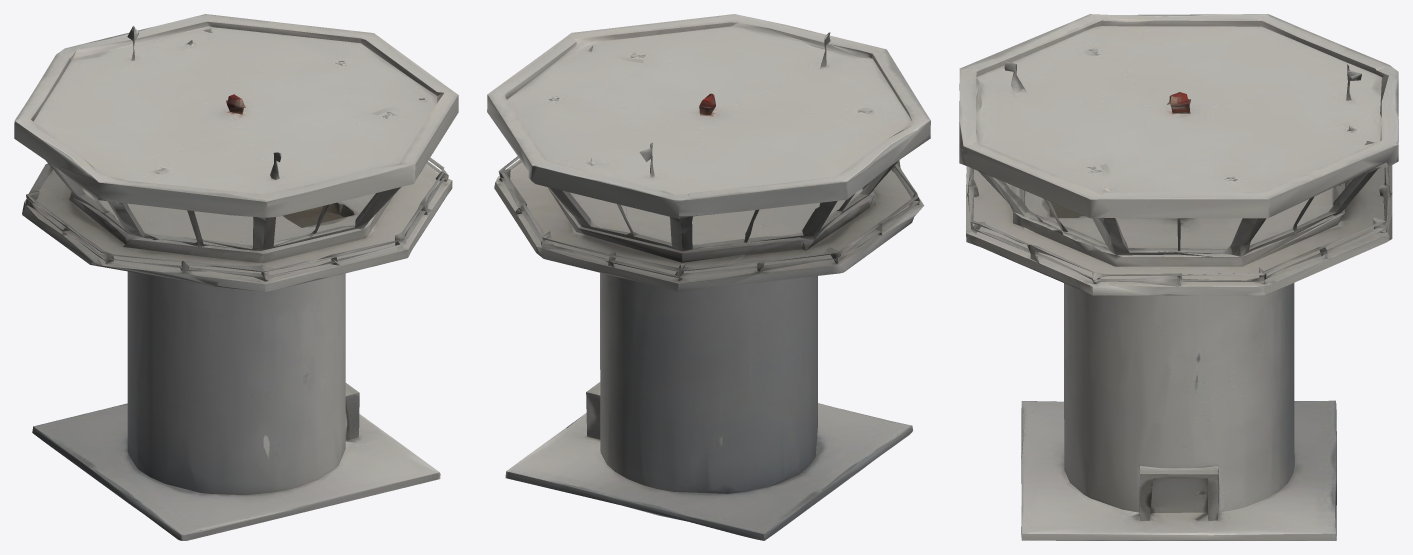
Rendered from aero_torre.glb.
3 views of the same model, side by side, from view 1: azimuth 30°, elevation 25°; view 2: azimuth 150°, elevation 25°; view 3: azimuth 270°, elevation 25° (orthographic). The views are drawn at different scales.
Visible parts, largest first — view 1: tripo_node_d9af75ac-195c-4e00-a843-754c479df445; view 2: tripo_node_d9af75ac-195c-4e00-a843-754c479df445; view 3: tripo_node_d9af75ac-195c-4e00-a843-754c479df445.
Boxes of the visible parts, left/top/right/bottom form: tripo_node_d9af75ac-195c-4e00-a843-754c479df445: left=14, top=14, right=458, bottom=540; tripo_node_d9af75ac-195c-4e00-a843-754c479df445: left=487, top=14, right=930, bottom=540; tripo_node_d9af75ac-195c-4e00-a843-754c479df445: left=959, top=14, right=1398, bottom=540.
Size of the model in its own units: 0.9996 by 1 by 1.
Materials: 1 (1 with a texture image).
